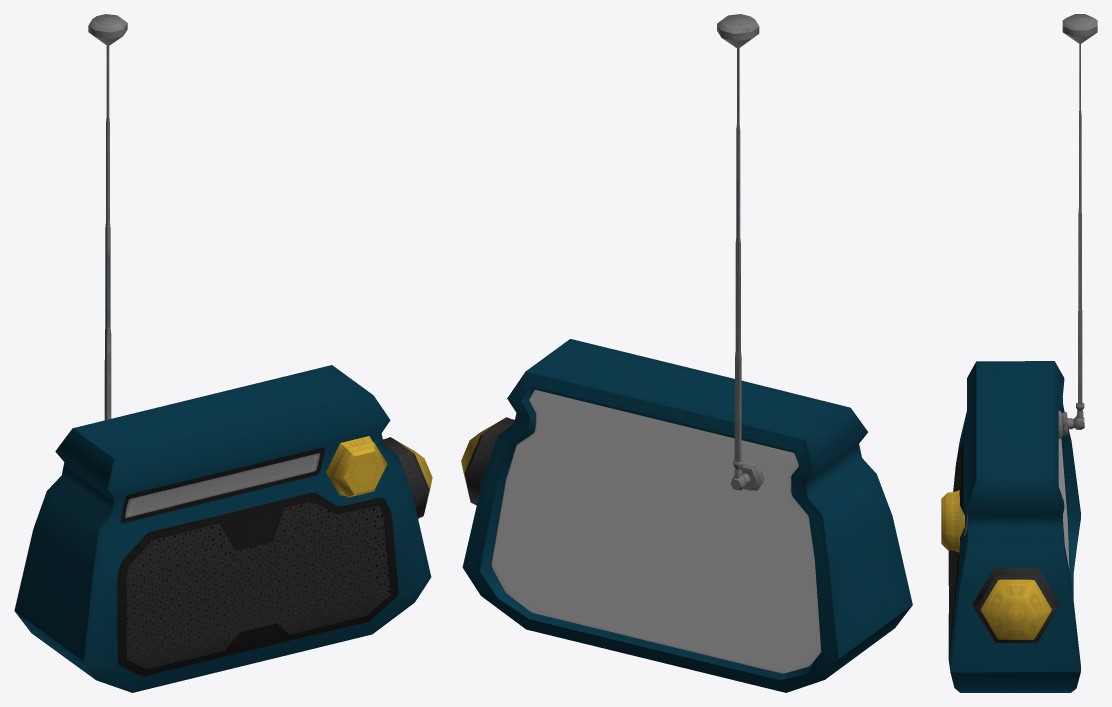
File: radio.FBX
3 renders of one model, left to right at view 1: azimuth 30°, elevation 25°; view 2: azimuth 150°, elevation 25°; view 3: azimuth 270°, elevation 25°, orthographic. The views are drawn at different scales.
Parts seen in each view (by area): view 1: radio_LP, radio_reixa, radio_antena_LP; view 2: radio_LP, radio_antena_LP; view 3: radio_LP, radio_antena_LP, radio_reixa.
Boxes of the visible parts, x1=… form: radio_LP: x1=14, y1=365, x2=432, y2=692; radio_reixa: x1=126, y1=501, x2=390, y2=669; radio_antena_LP: x1=88, y1=14, x2=127, y2=420; radio_LP: x1=461, y1=339, x2=912, y2=692; radio_antena_LP: x1=717, y1=14, x2=759, y2=490; radio_LP: x1=941, y1=361, x2=1080, y2=692; radio_antena_LP: x1=1062, y1=14, x2=1097, y2=429; radio_reixa: x1=948, y1=453, x2=961, y2=657.
Size of the model in its own units: 71.58 by 112 by 27.32.
